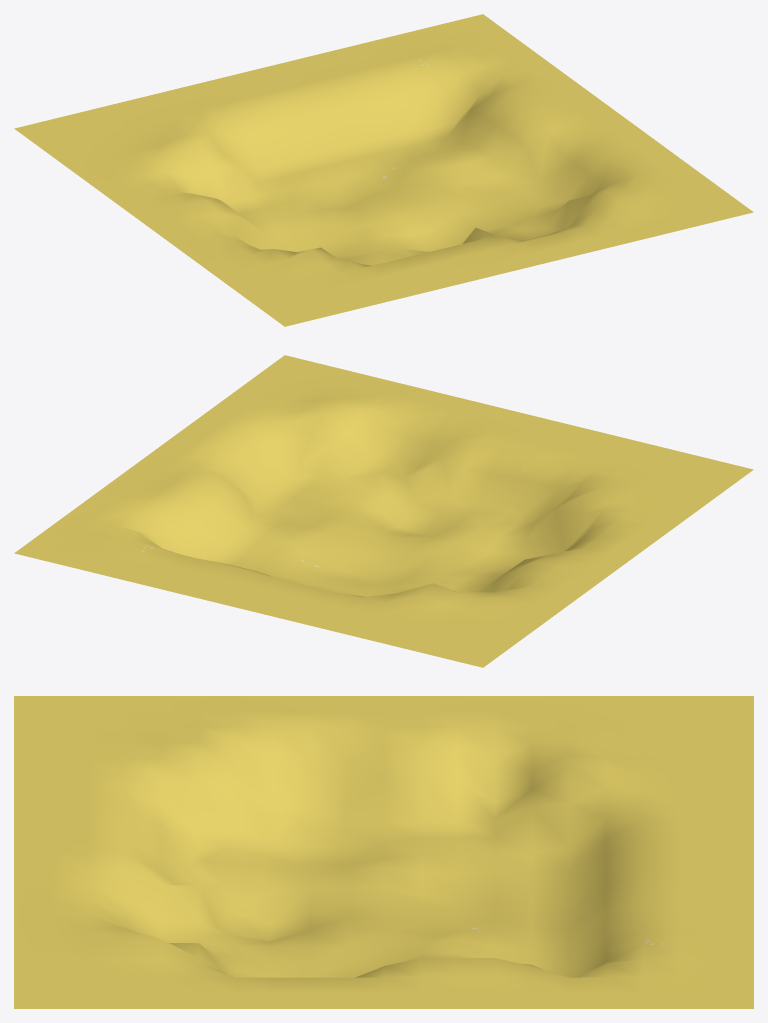
Rendered from SandPlane_Large_Pool.fbx.
3 views of the same model, one above another, from view 1: azimuth 30°, elevation 25°; view 2: azimuth 150°, elevation 25°; view 3: azimuth 270°, elevation 25° (orthographic). The views are drawn at different scales.
Visible parts, largest first — view 1: SandPlane_Large_Pool; view 2: SandPlane_Large_Pool; view 3: SandPlane_Large_Pool.
Boxes of the visible parts, <box> form: SandPlane_Large_Pool: <box>14,14,753,326</box>; SandPlane_Large_Pool: <box>14,355,753,667</box>; SandPlane_Large_Pool: <box>14,696,753,1008</box>.
Size of the model in its own units: 4000 by 4000 by 480.
1 material, 1 textured.
